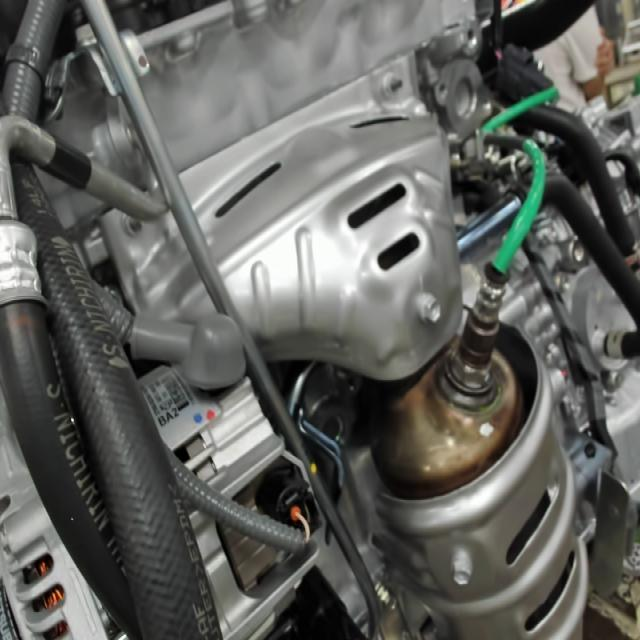Alternator-BA2: (155, 399, 187, 431)
Hose Discharge-HT: (39, 132, 96, 202)
